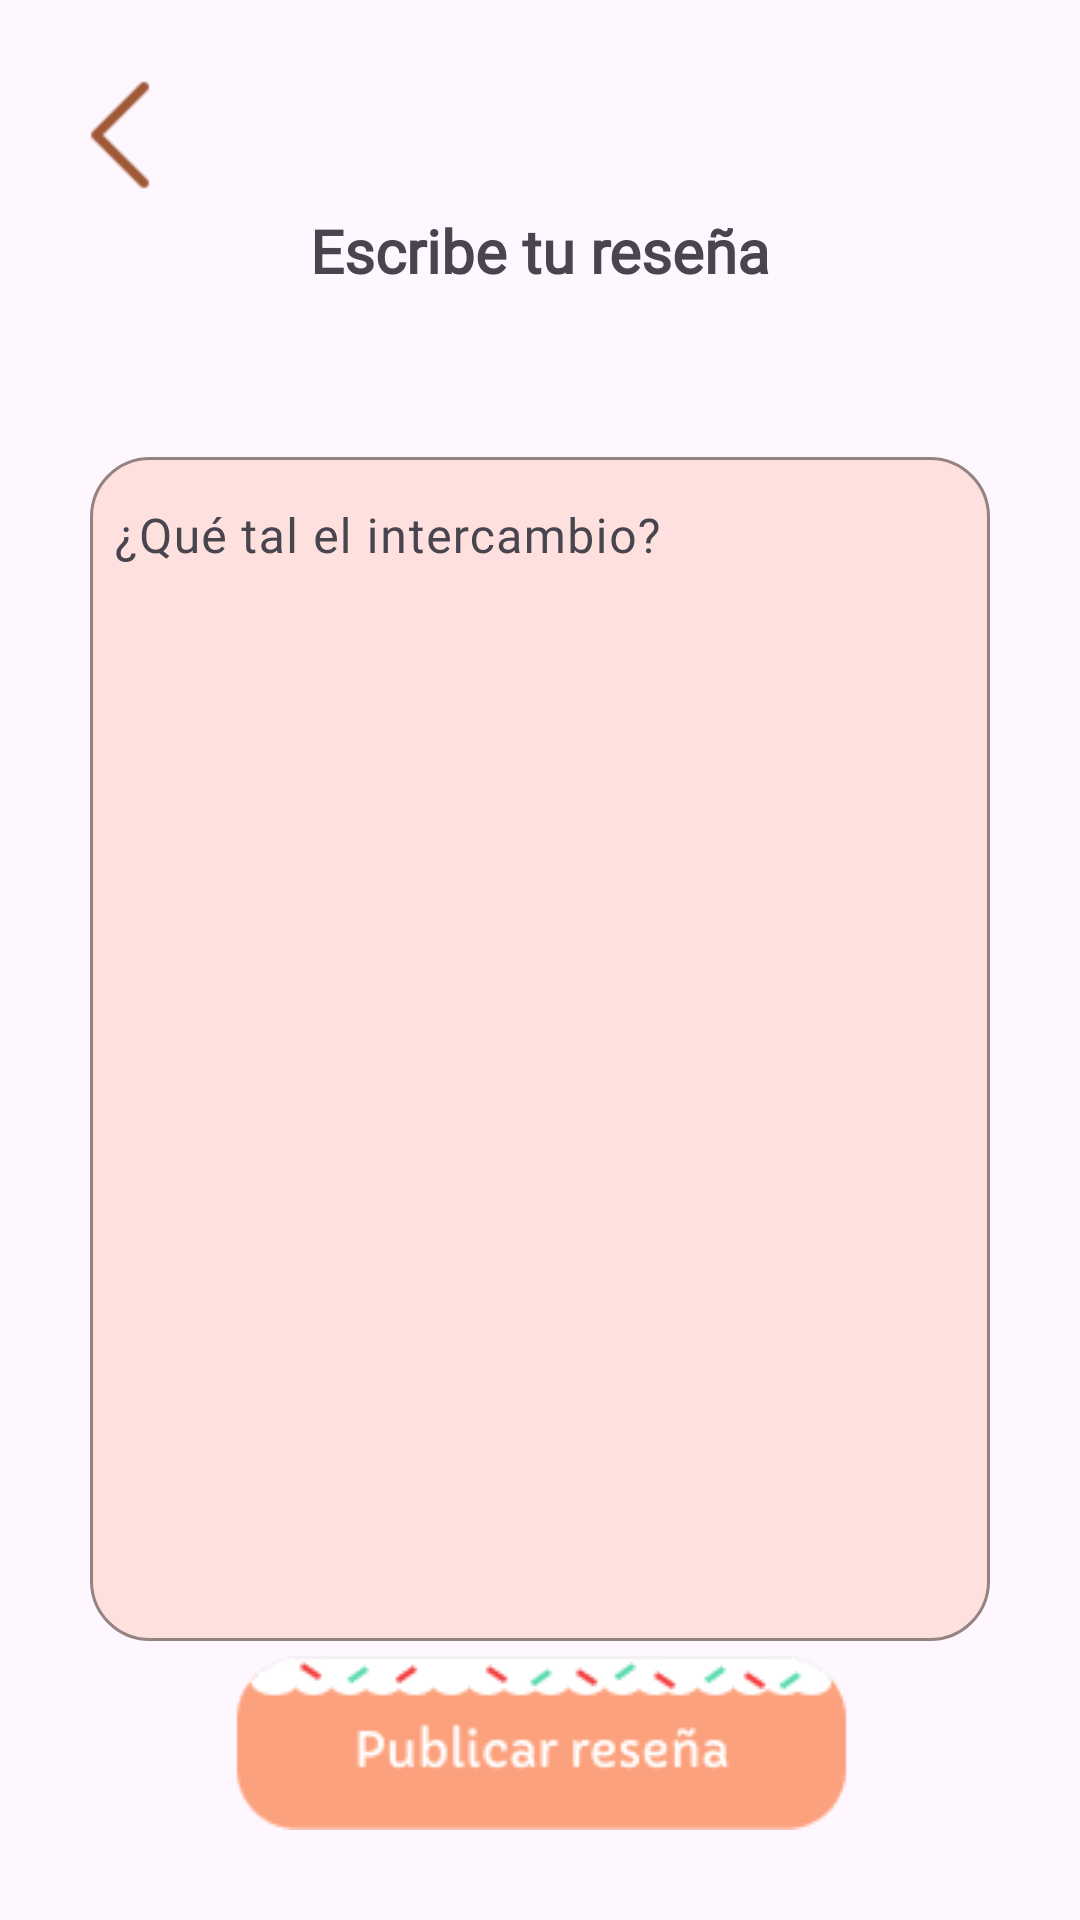

Icons on this 1080 × 1920 Android screen, each with its box as Rect(x1, y1, x2, y2):
backk: Rect(90, 81, 150, 189)
